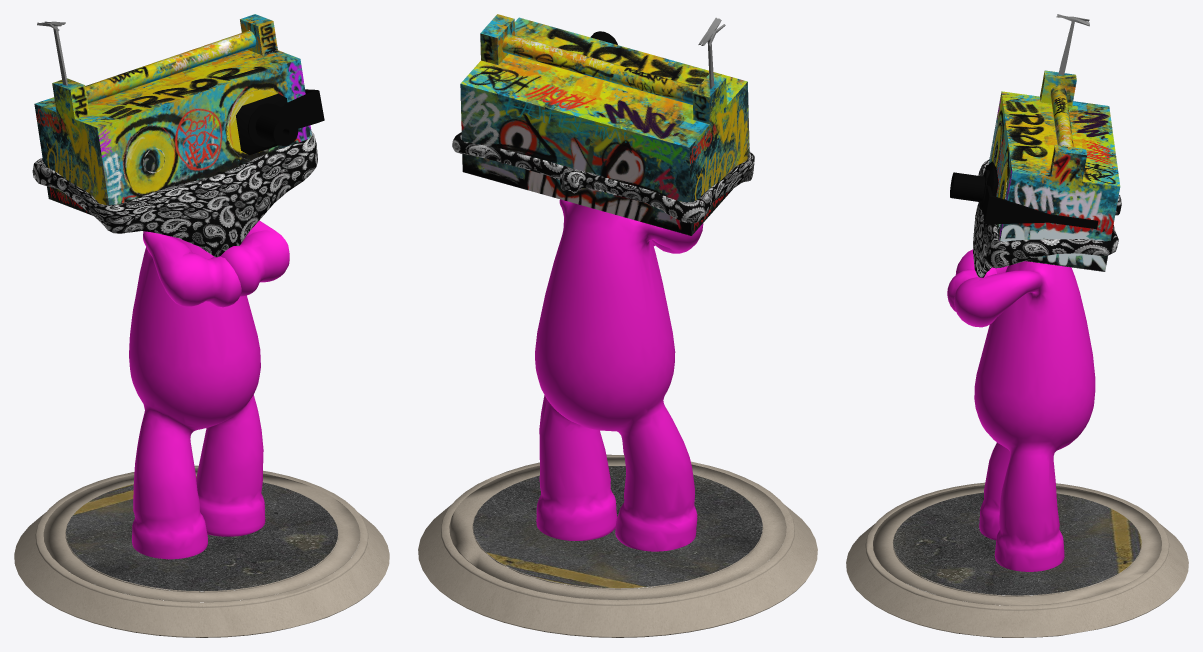
The picture shows the model from 3 angles, left to right: view 1: azimuth 30°, elevation 25°; view 2: azimuth 150°, elevation 25°; view 3: azimuth 270°, elevation 25°; orthographic projection. The views are drawn at different scales.
Parts seen in each view (by area): view 1: BBody; view 2: BBody; view 3: BBody.
Part boxes in pixels (<box>): BBody: <box>14,14,389,637</box>; BBody: <box>418,14,817,637</box>; BBody: <box>846,14,1188,637</box>.
Size of the model in its own units: 1.45 by 2.33 by 1.45.
7 materials, 4 textured.
